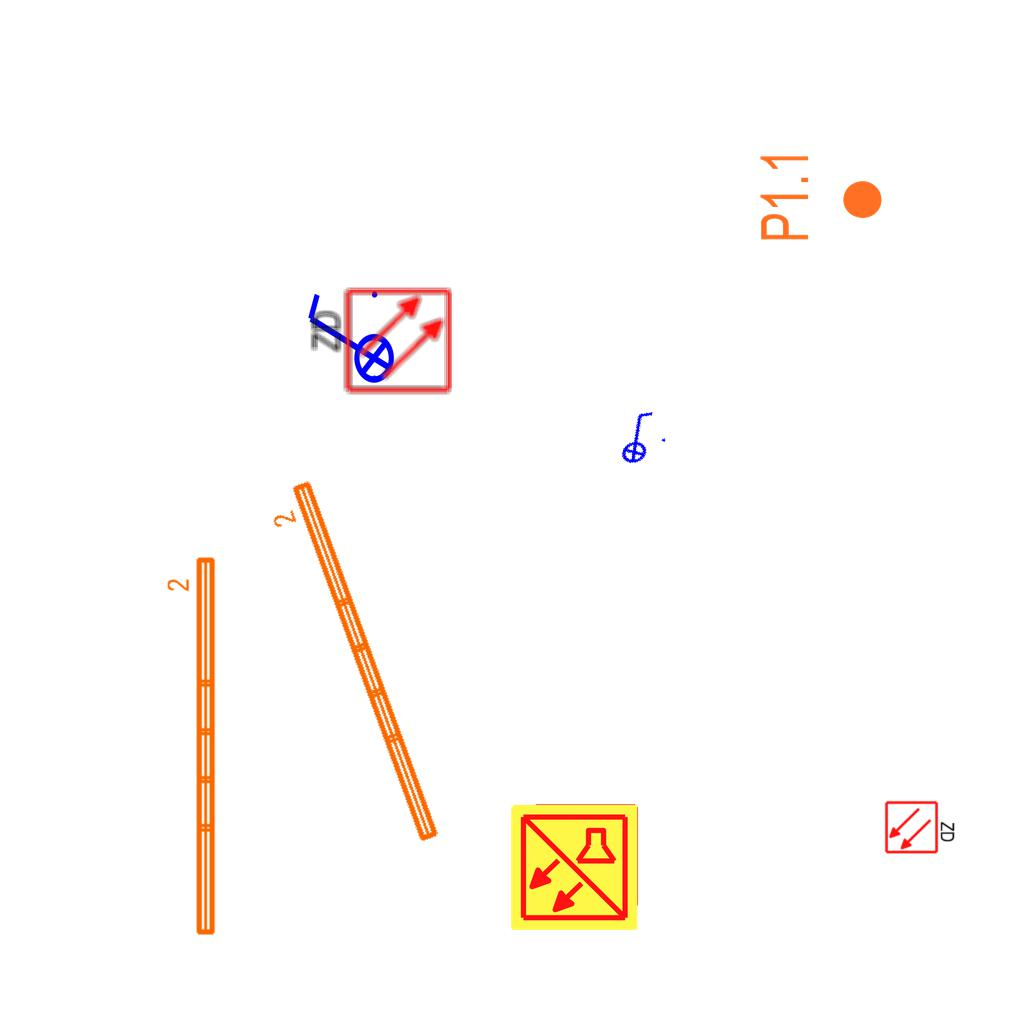Ambulanz_Pendelleuchte_LED: (261, 474, 446, 858), (165, 553, 221, 940)
Ausschalter_beleuchtet: (300, 285, 396, 397), (601, 403, 673, 471)
Downlight_LED_Einbauleuchten_Flur: (757, 150, 885, 243)
OKW_Multisensormelder_(Kombination_optischer_Rauch-Kahlenmonoxid_Waerme-Melder): (508, 801, 640, 933)
ZD_Melder_in_Zwischendecke_mit_Revisionsoeffnung_mind_40_x_40_cm: (305, 285, 454, 399), (884, 798, 958, 855)
